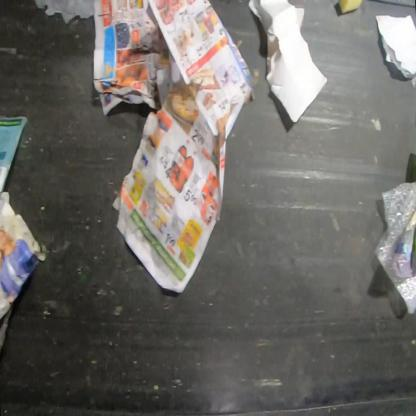soft_plastic: (373, 181, 415, 316), (0, 116, 30, 200), (0, 302, 14, 360)
